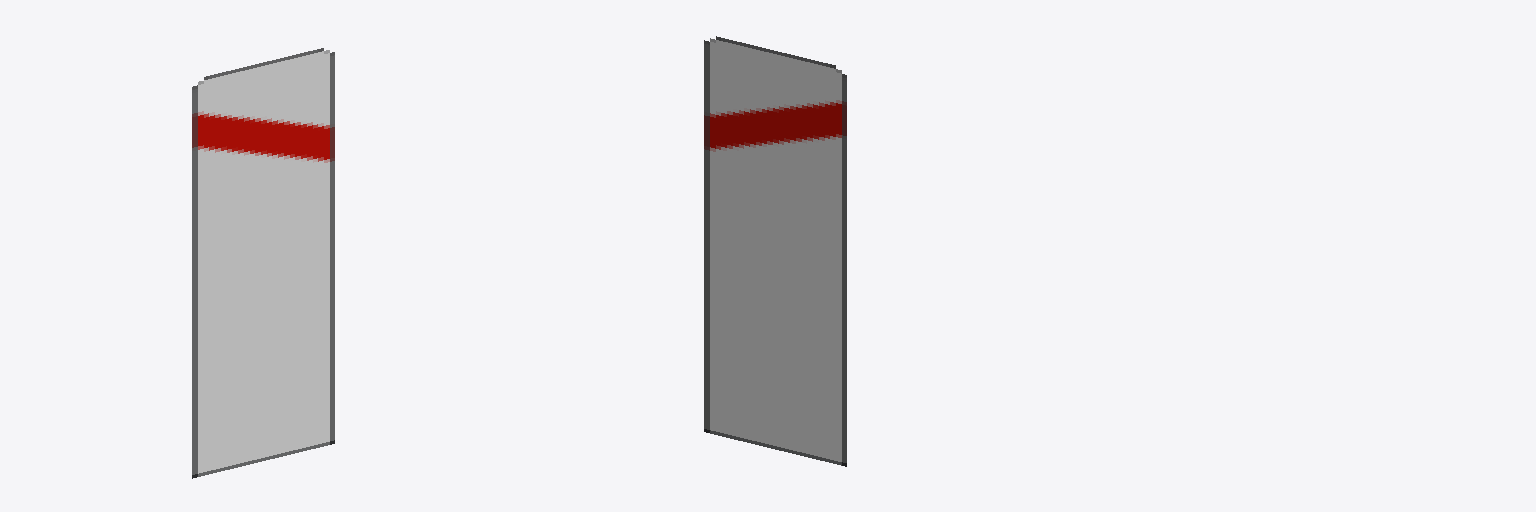
The picture shows the model from 3 angles: view 1: azimuth 30°, elevation 25°; view 2: azimuth 150°, elevation 25°; view 3: azimuth 270°, elevation 25°; orthographic projection.
Parts seen in each view (by area): view 1: Cube.001; view 2: Cube.001; view 3: none.
Part boxes in pixels (x1,y1,x2,y2): Cube.001: (192,48,334,478); Cube.001: (704,36,846,466).
Size of the model in its own units: 0.5 by 1.33 by 0.095.
Materials: 2 (2 with a texture image).